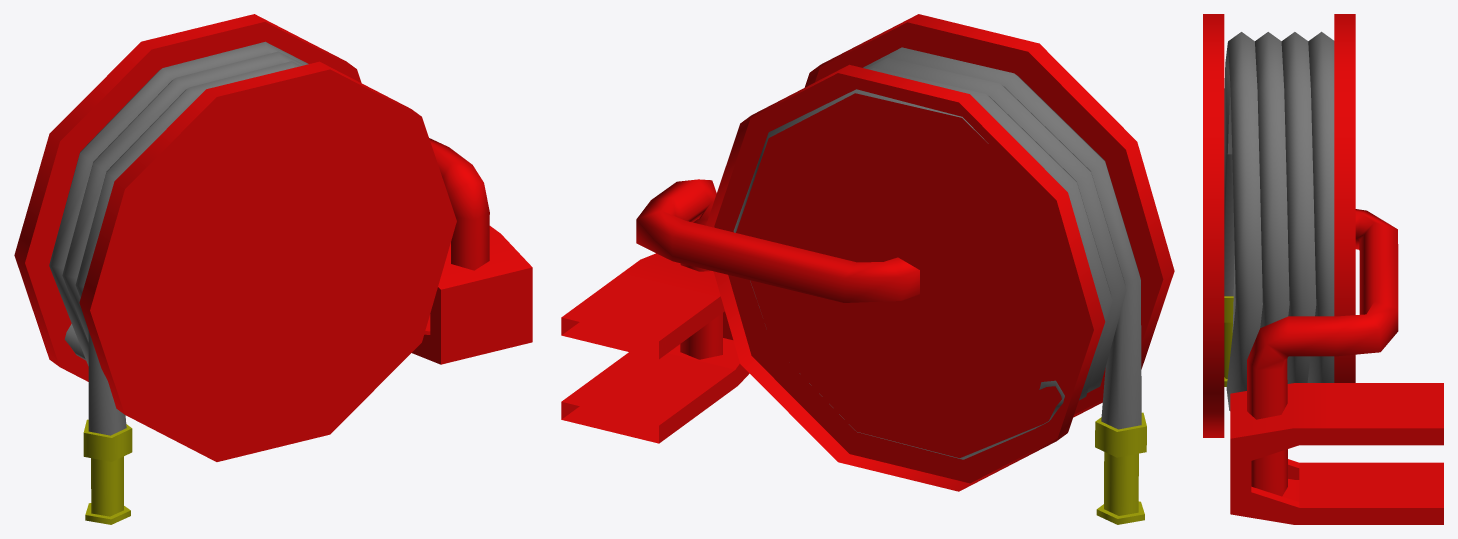
File: fire_hose_low.fbx
3 renders of one model, left to right at view 1: azimuth 30°, elevation 25°; view 2: azimuth 150°, elevation 25°; view 3: azimuth 270°, elevation 25°, orthographic. The views are drawn at different scales.
Visible parts, largest first — view 1: fire_hose_low; view 2: fire_hose_low; view 3: fire_hose_low.
Part boxes in pixels (left/top/right/bottom): fire_hose_low: left=14, top=14, right=532, bottom=524; fire_hose_low: left=561, top=14, right=1174, bottom=524; fire_hose_low: left=1203, top=14, right=1443, bottom=524.
Bounding box in the file's own units: 74.56 × 63.64 × 33.81.
